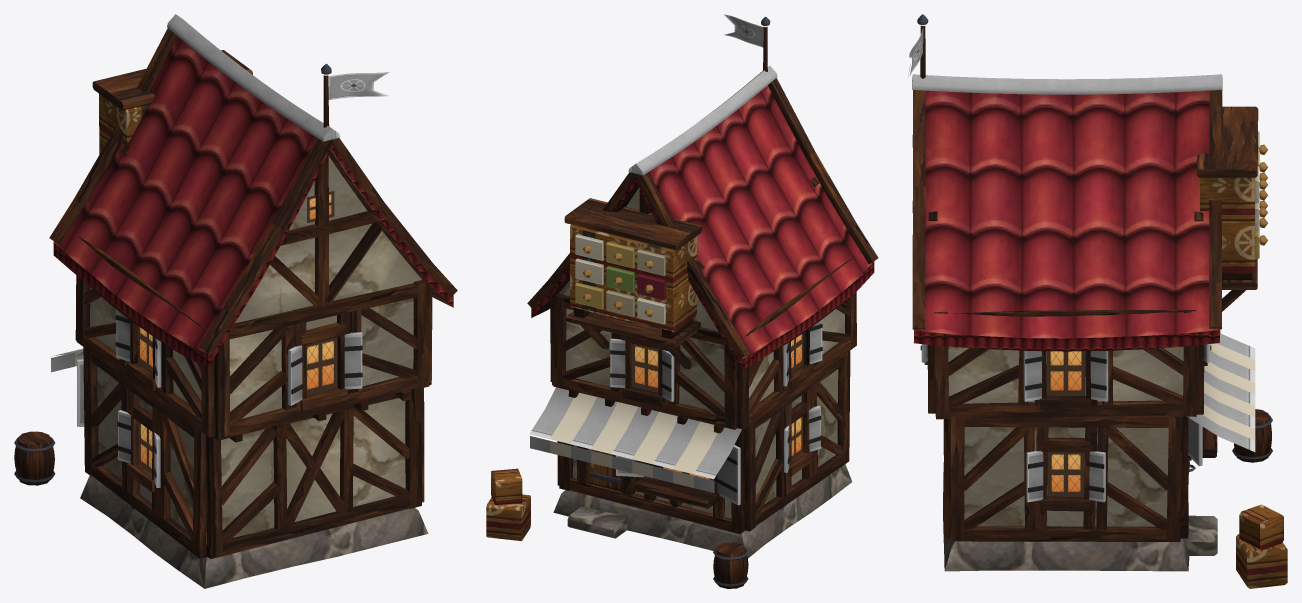
File: kingdom_curio_cabinet.glb
3 views of the same model, side by side, from view 1: azimuth 30°, elevation 25°; view 2: azimuth 150°, elevation 25°; view 3: azimuth 270°, elevation 25° (orthographic). The views are drawn at different scales.
Visible parts, largest first — view 1: kingdom_curio_cabinet; view 2: kingdom_curio_cabinet; view 3: kingdom_curio_cabinet.
Part boxes in pixels (box(x1,y1,x2,y2)): kingdom_curio_cabinet: box(14, 14, 457, 588); kingdom_curio_cabinet: box(486, 14, 878, 588); kingdom_curio_cabinet: box(908, 14, 1287, 588).
Size of the model in its own units: 2.57 by 4.24 by 2.91.
3 materials, 3 textured.
